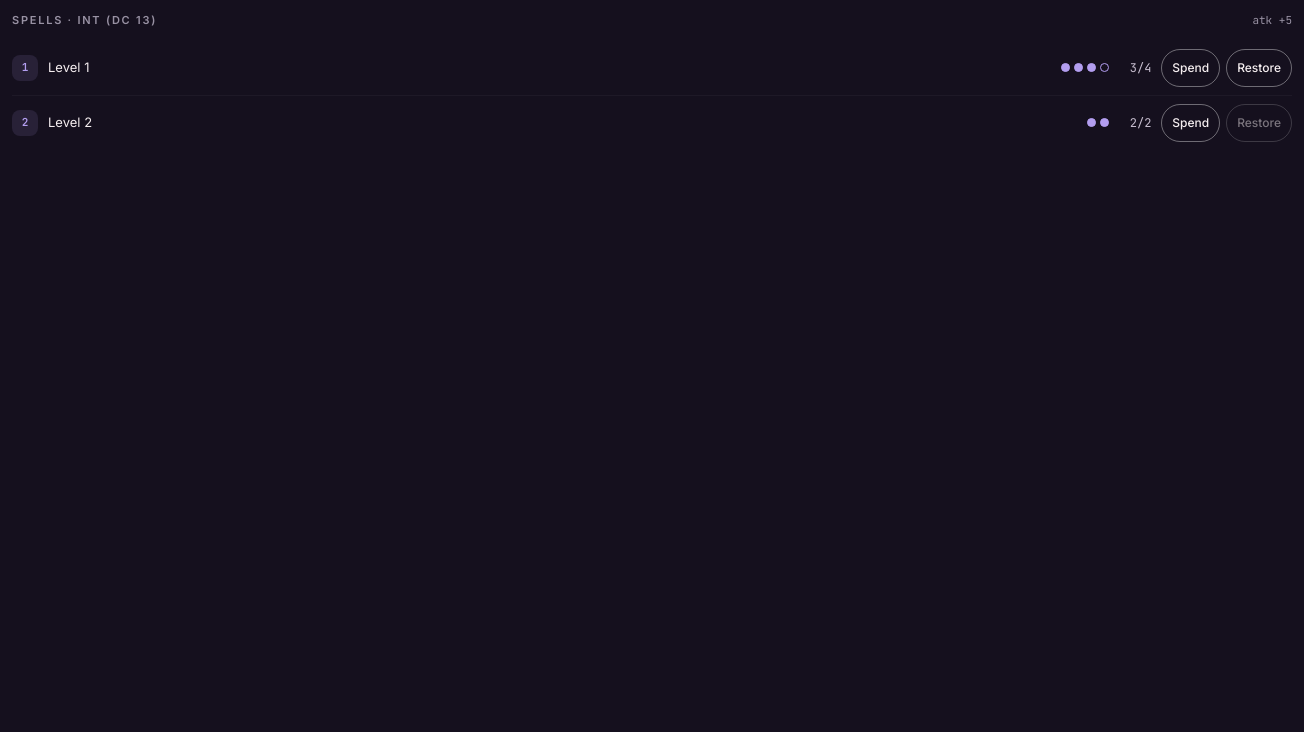
Test: SpellSlotsPanel — success toast announcement › announces spend and restore
Click the button with aria-label "Spend a level 1 spell slot".
click(1191, 68)  # box left=1161, top=48, right=1220, bottom=86
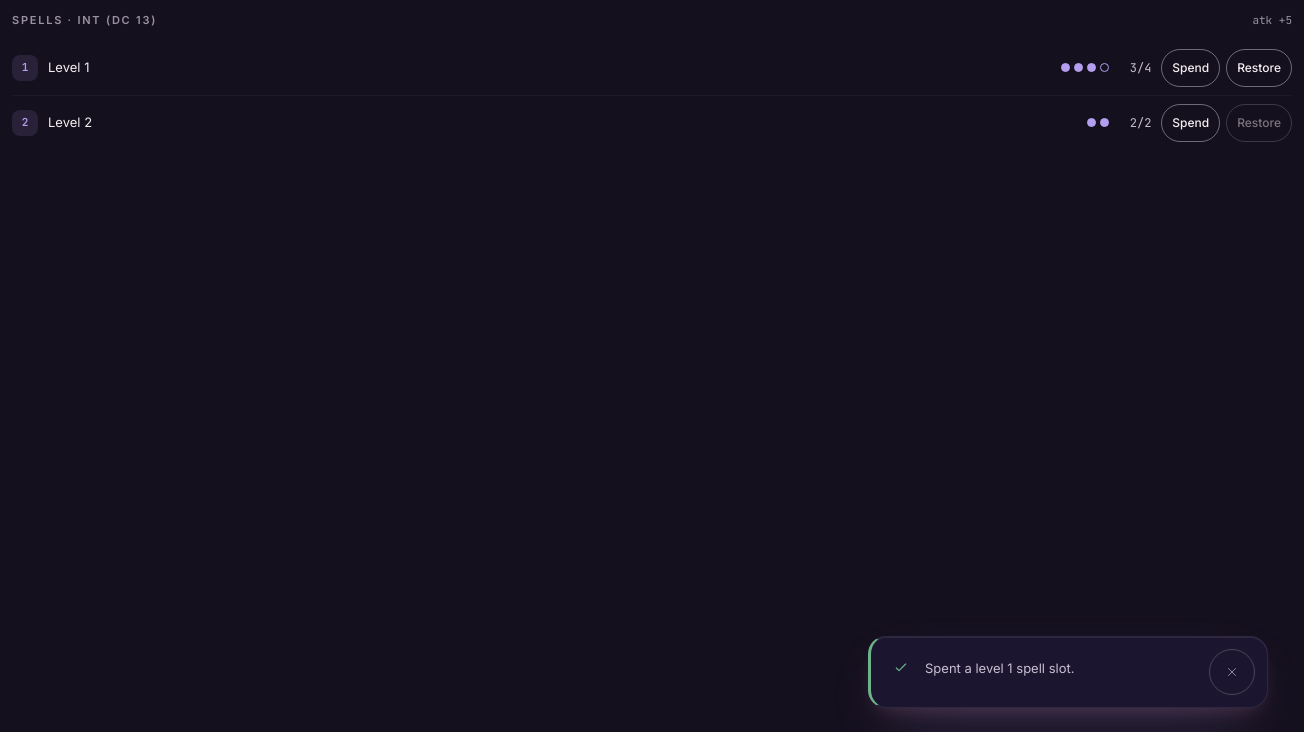
Expected: the text "Spent a level 1 spell slot." is shown, left=925, top=660, right=1074, bottom=676
